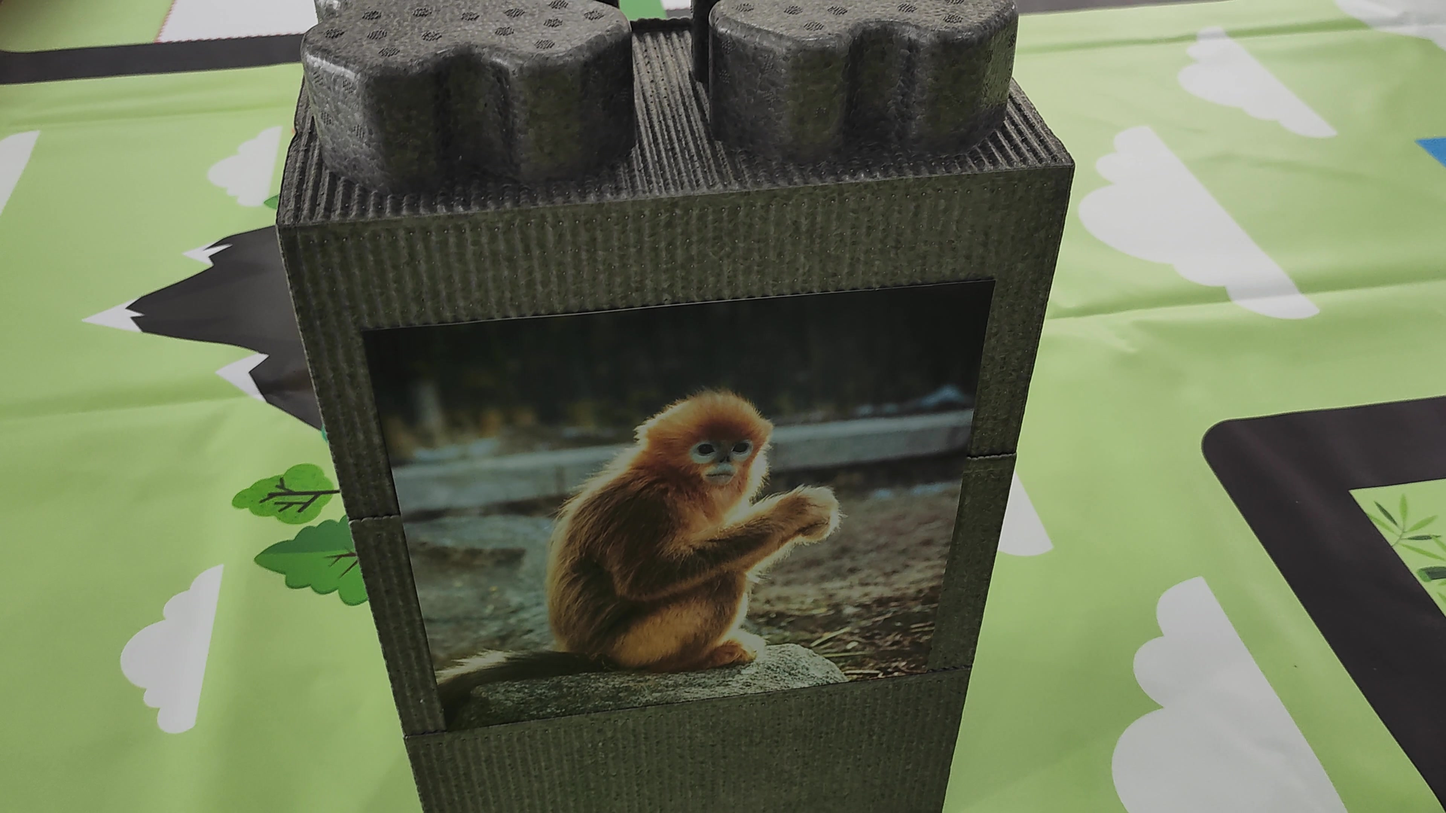monkey: (437, 338, 875, 714)
